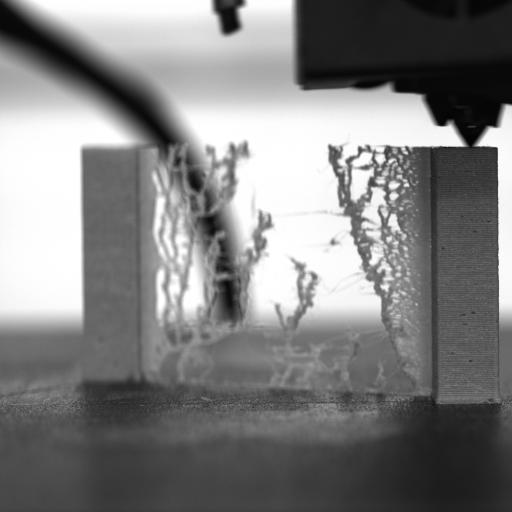spaghetti_and_stringing: (150, 134, 418, 392)
